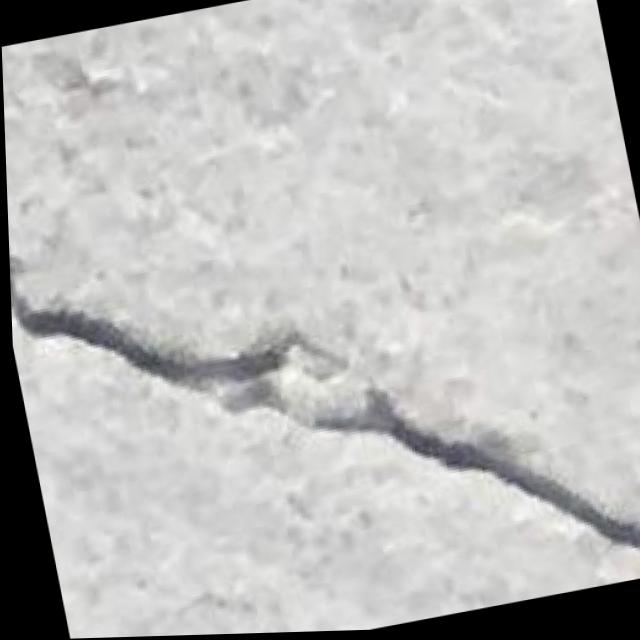Crack: (5, 143, 640, 640)
